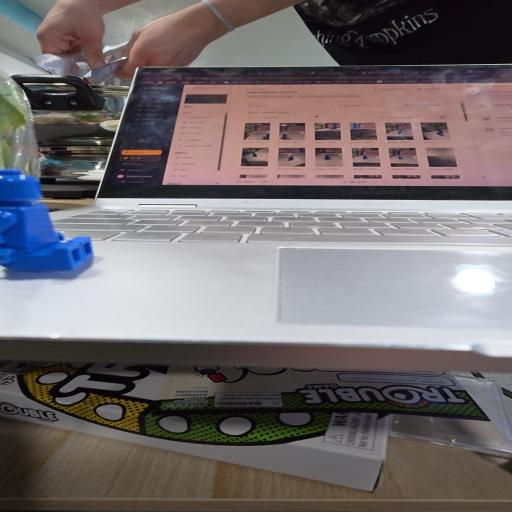Blue: (0, 169, 93, 271)
